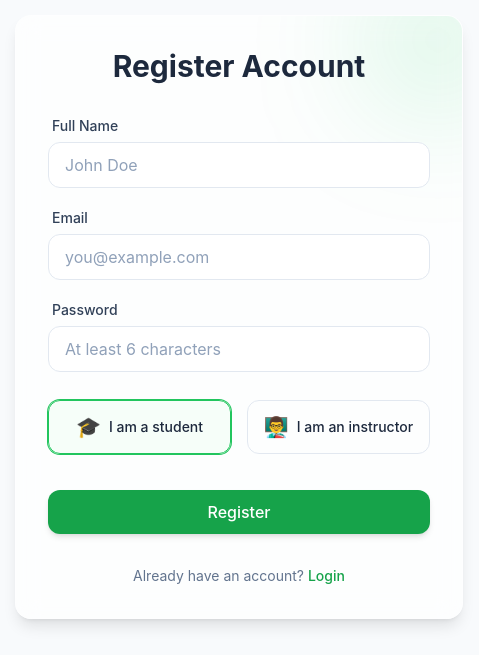
Scenario: Register page › server error handling › shows the API detail message, e.g. duplicate email
Type "Ada Lovelace" into the field with placeholder "John Doe" at (239, 165), box [48,142,430,188]
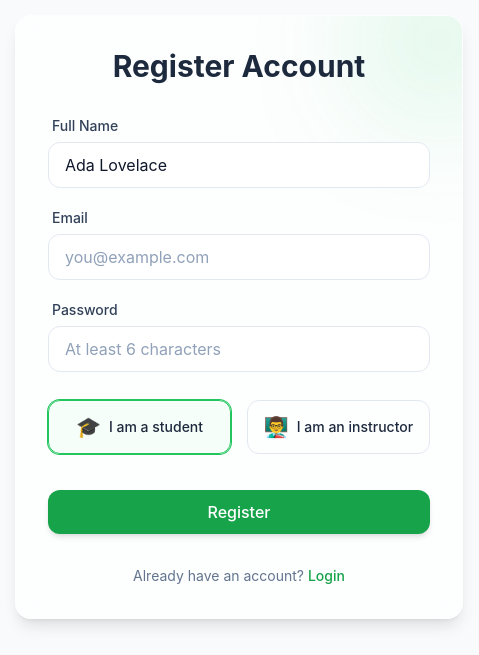
Type "ada@example.com" into the field with placeholder "you@example.com" at (239, 257), box [48,234,430,280]
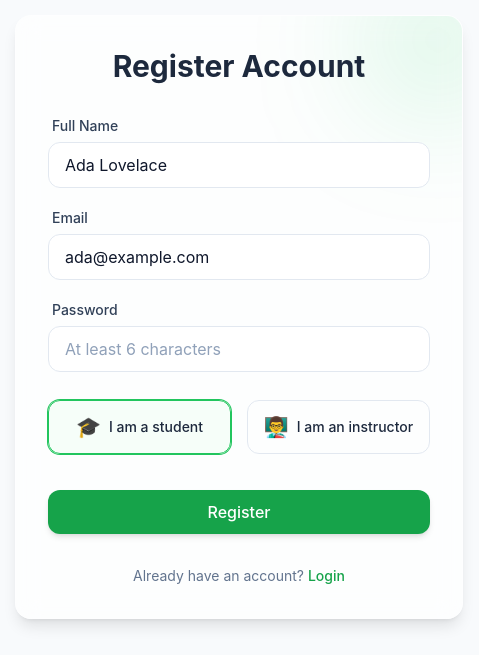
Type "secret123" into the password field with placeholder "At least 6 characters" at (239, 349), box [48,326,430,372]
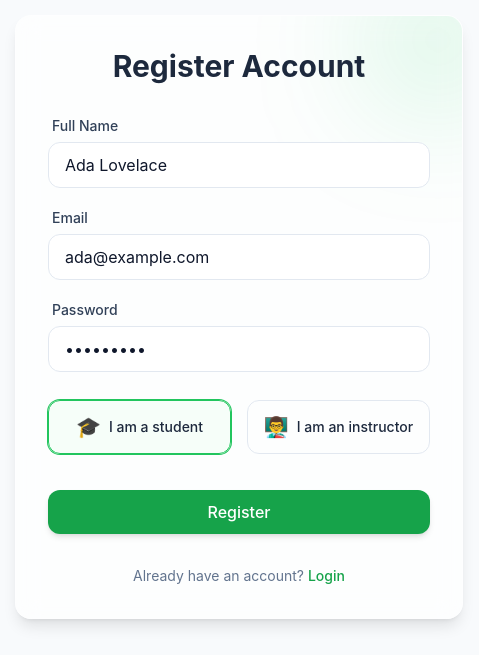
Click the button "Register" at (239, 512), box [48,490,430,534]
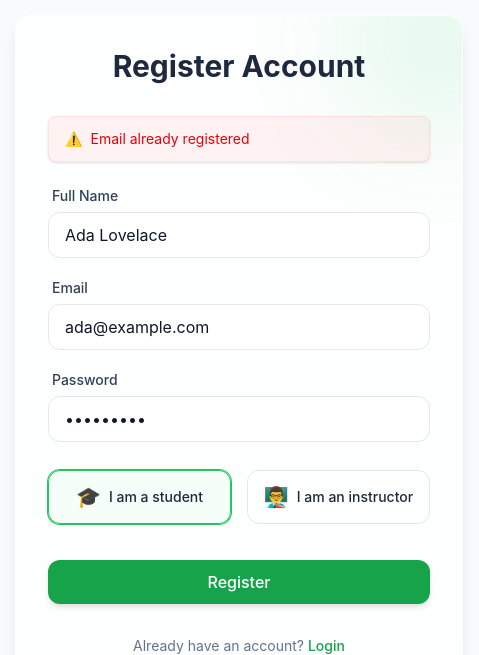
expect the text "⚠️ Email already registered" is shown: met, box [48,116,430,162]
